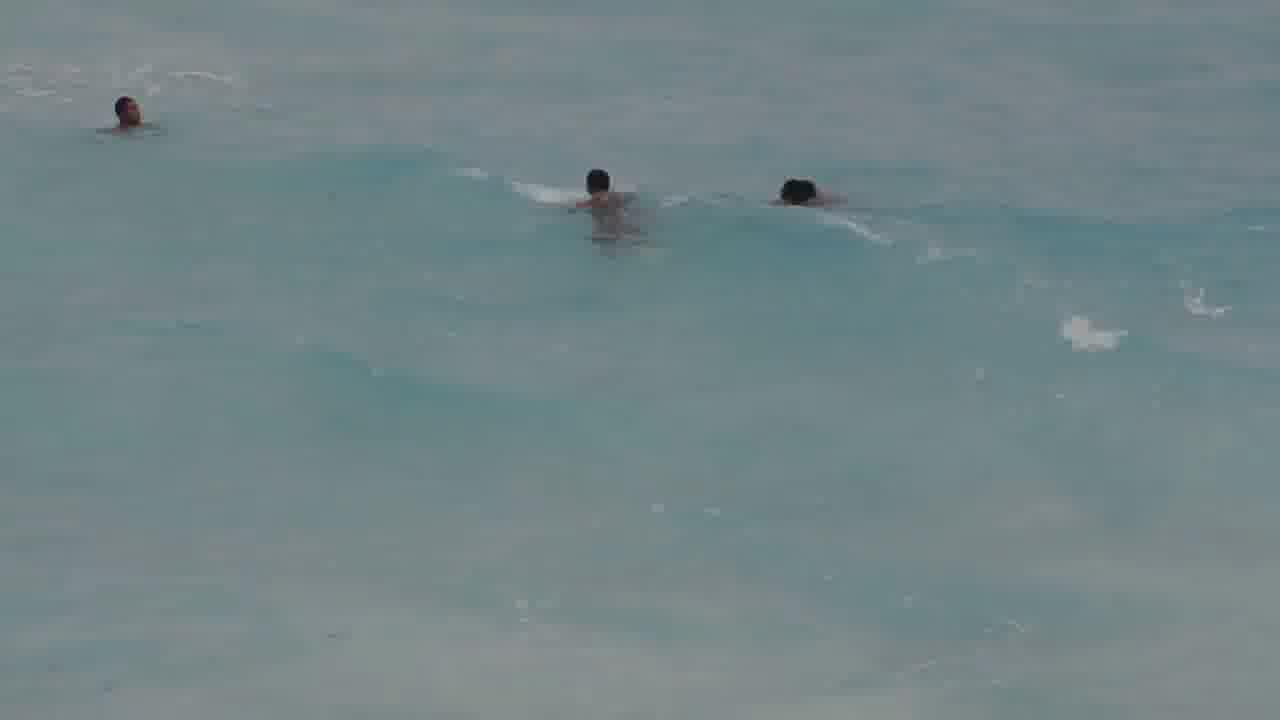swimmer: (560, 166, 652, 257), (760, 167, 855, 221), (85, 94, 165, 139)
